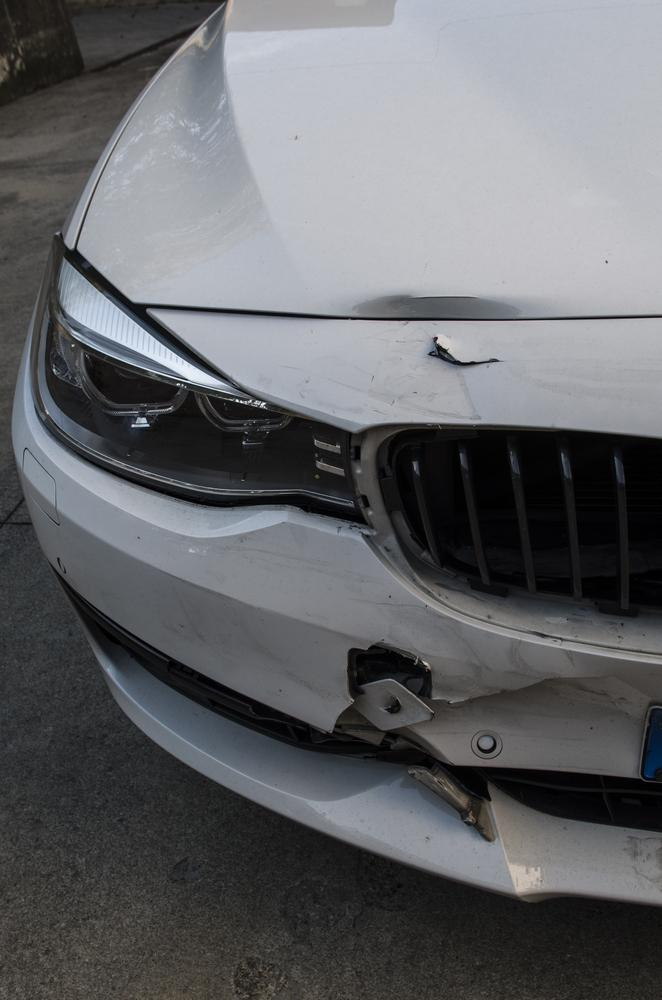crack: (436, 676, 604, 704), (427, 336, 505, 367)
dent: (351, 293, 531, 322)
